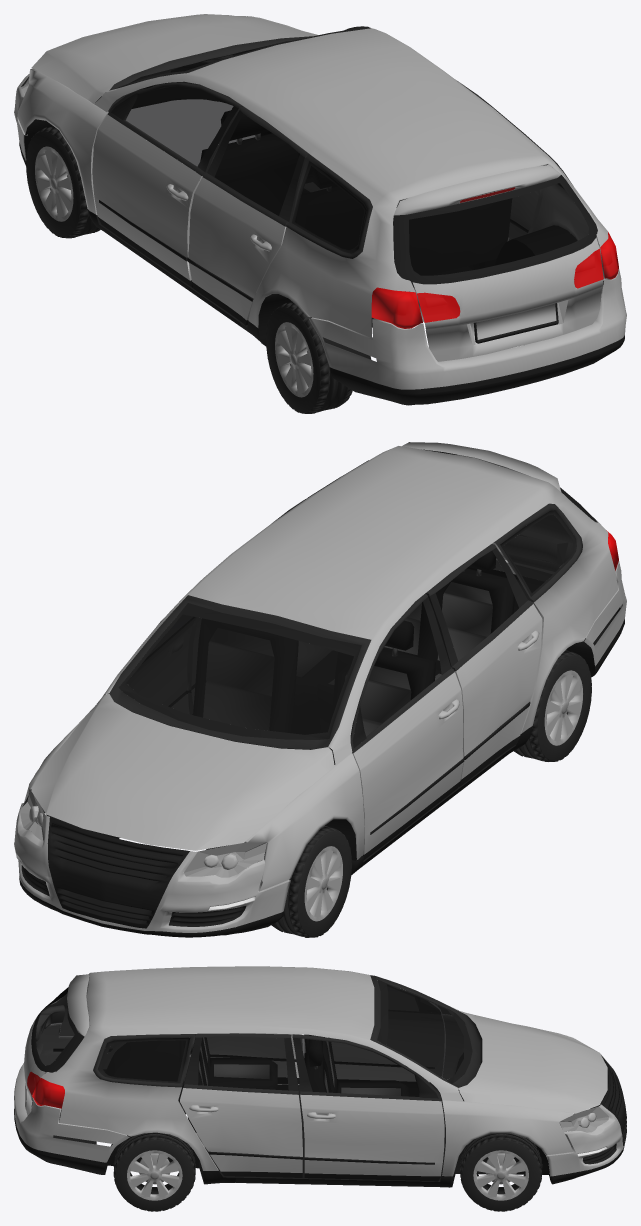
File: car-wagon-eu.glb
3 views of the same model, one above another, from view 1: azimuth 30°, elevation 25°; view 2: azimuth 150°, elevation 25°; view 3: azimuth 270°, elevation 25° (orthographic). The views are drawn at different scales.
Visible parts, largest first — view 1: object 3, object 1, object 4, object 10, object 2, wheels_a, object 9, object 8, wheels_b; view 2: object 3, object 2, object 4, object 10, wheels_a, object 9, object 8, wheels_b, object 1; view 3: object 3, object 4, object 10, object 2, wheels_a, object 1, wheels_b, object 9, object 8, wheels_c.
Boxes of the visible parts, x1=… form: object 3: x1=14, y1=16, x2=626, y2=405; object 1: x1=393, y1=165, x2=603, y2=361; object 4: x1=92, y1=82, x2=242, y2=287; object 10: x1=187, y1=81, x2=539, y2=325; object 2: x1=31, y1=14, x2=318, y2=103; wheels_a: x1=26, y1=126, x2=352, y2=413; object 9: x1=295, y1=170, x2=511, y2=275; object 8: x1=188, y1=111, x2=298, y2=257; wheels_b: x1=35, y1=146, x2=313, y2=397; object 3: x1=14, y1=446, x2=626, y2=937; object 2: x1=31, y1=694, x2=334, y2=850; object 4: x1=108, y1=594, x2=464, y2=859; object 10: x1=201, y1=498, x2=542, y2=786; wheels_a: x1=271, y1=650, x2=591, y2=937; object 9: x1=296, y1=551, x2=514, y2=734; object 8: x1=194, y1=618, x2=435, y2=764; wheels_b: x1=304, y1=670, x2=582, y2=921; object 1: x1=402, y1=442, x2=597, y2=574; object 3: x1=14, y1=966, x2=626, y2=1187; object 4: x1=292, y1=1000, x2=444, y2=1181; object 10: x1=180, y1=1033, x2=302, y2=1177; object 2: x1=458, y1=1011, x2=607, y2=1113; wheels_a: x1=113, y1=1104, x2=542, y2=1211; object 1: x1=23, y1=974, x2=89, y2=1115; wheels_b: x1=127, y1=1150, x2=528, y2=1200; object 9: x1=181, y1=1033, x2=277, y2=1176; object 8: x1=304, y1=1034, x2=409, y2=1095; wheels_c: x1=139, y1=1153, x2=516, y2=1184.
Size of the model in its own units: 1.82 by 1.5 by 4.78.
